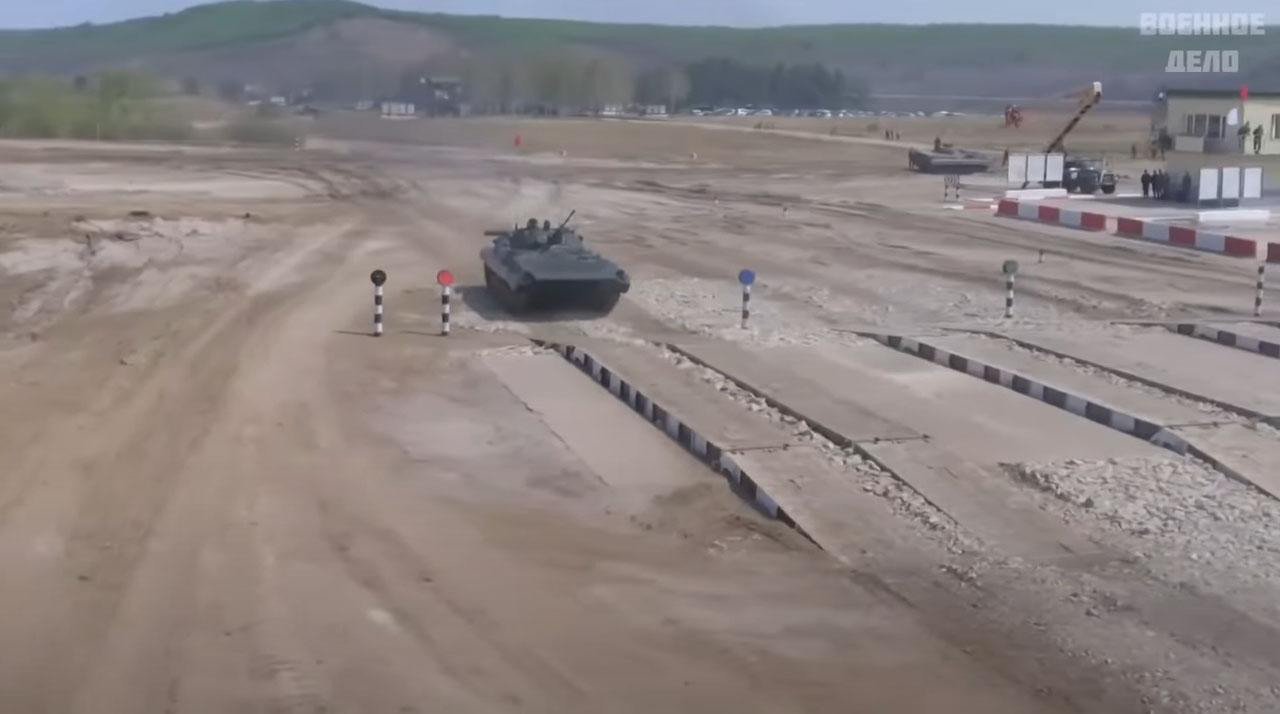person: (1178, 170, 1194, 208), (1252, 124, 1266, 157), (1160, 166, 1170, 204), (1140, 168, 1152, 198), (1153, 165, 1159, 206)
tank: (482, 212, 625, 322), (912, 142, 993, 183)
